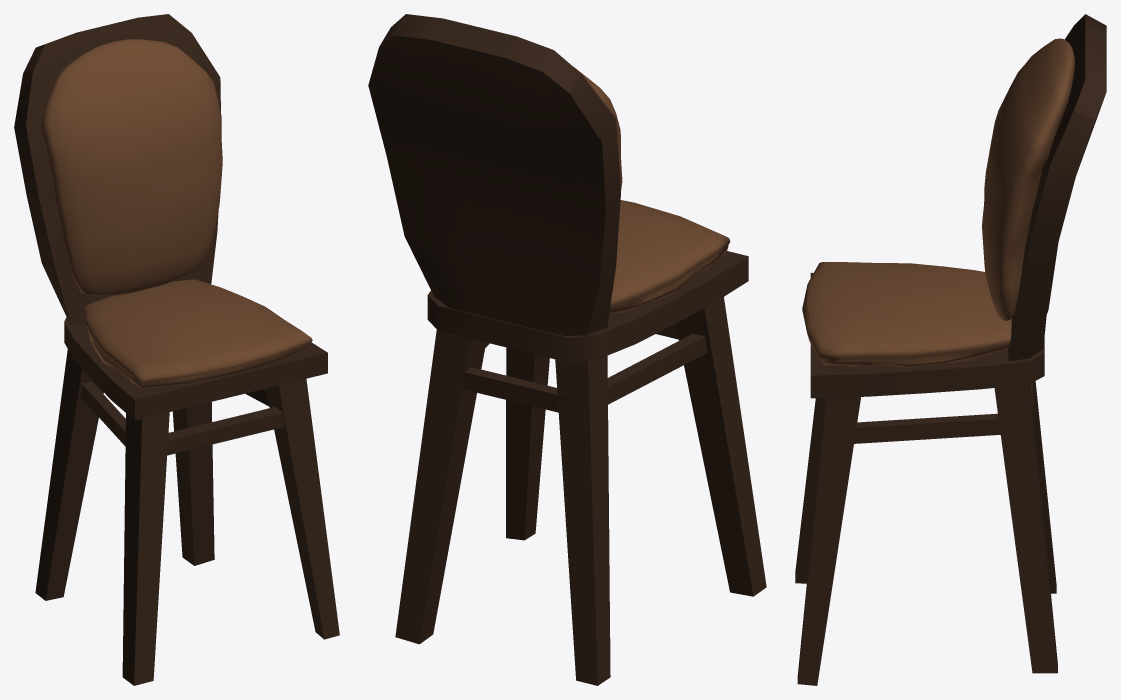
Rendered from restaurantchair.fbx.
3 views of the same model, side by side, from view 1: azimuth 30°, elevation 25°; view 2: azimuth 150°, elevation 25°; view 3: azimuth 270°, elevation 25° (orthographic). The views are drawn at different scales.
Visible parts, largest first — view 1: pCube11; view 2: pCube11; view 3: pCube11.
Part boxes in pixels (<box>): pCube11: <box>14,14,339,685</box>; pCube11: <box>368,14,766,685</box>; pCube11: <box>795,14,1106,685</box>.
Size of the model in its own units: 7.4 by 18.41 by 8.82.
1 material, 1 textured.
